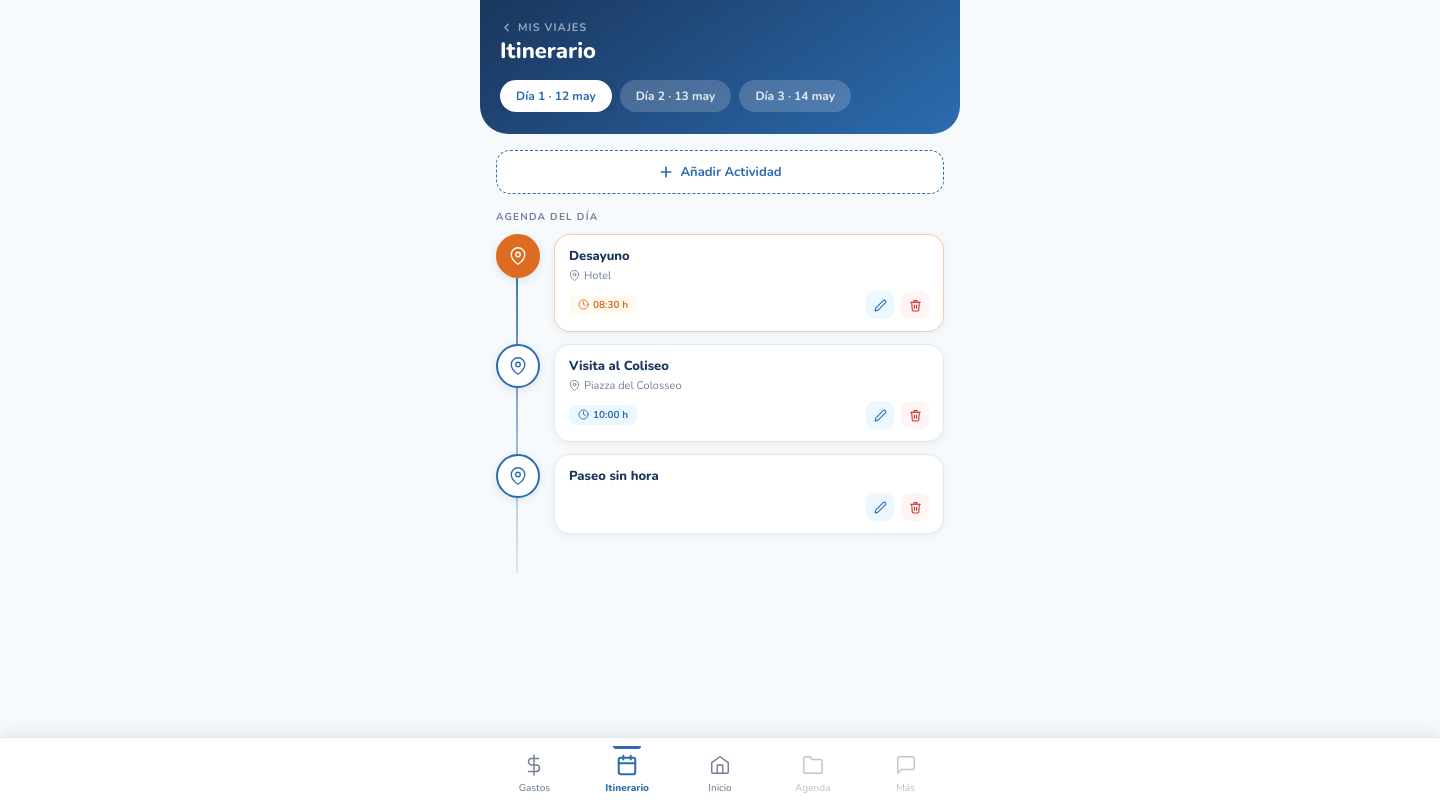
Test: Itinerario › avisa si el día elegido no tiene actividades
This screenshot has width=1440, height=810.
What coordinates should you click on to do the following:
click the button "Día 3 · 14 may"
I would click on:
 (795, 96)
Its box is [739,80,851,112].
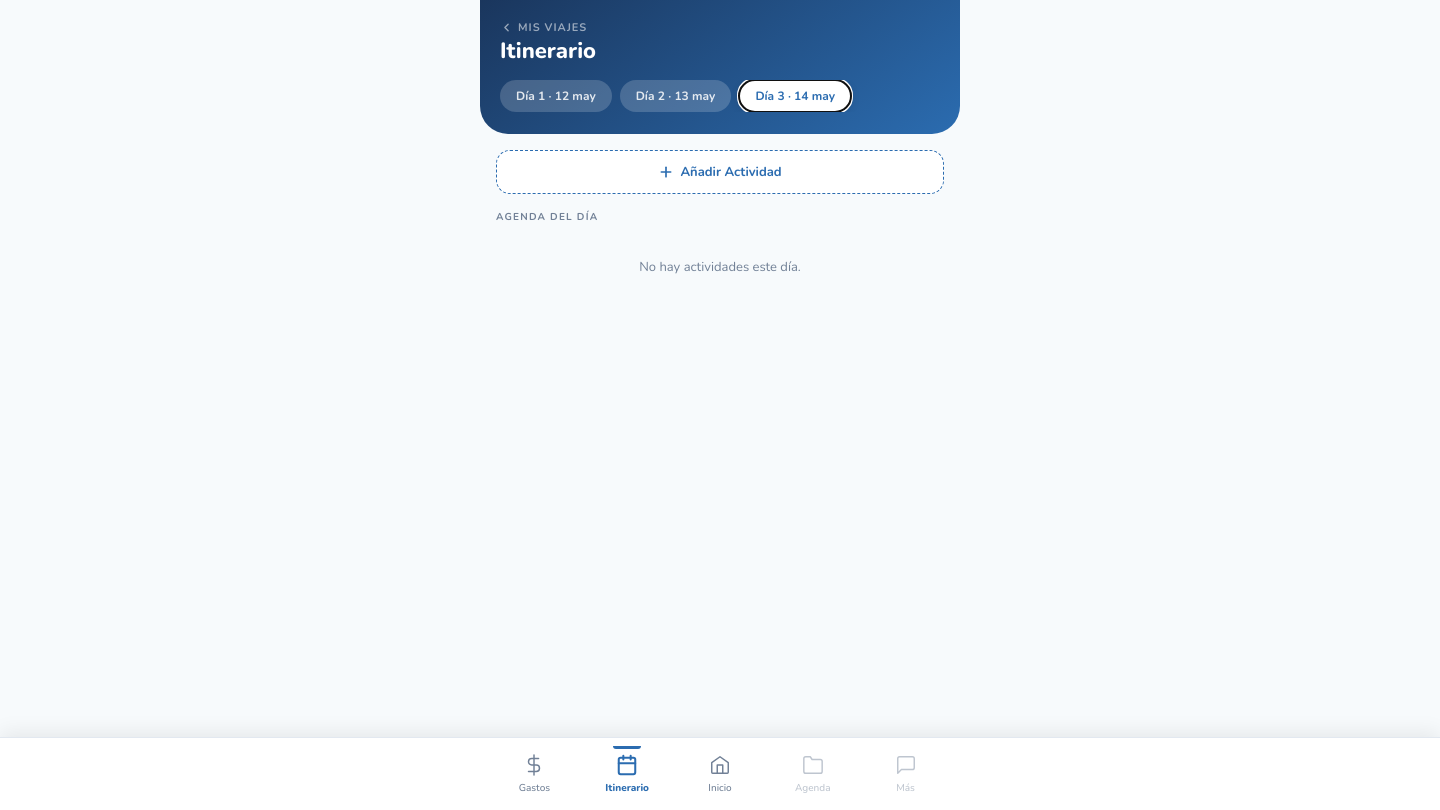
Now the text "No hay actividades este día." is shown, box [639,258,801,276]
